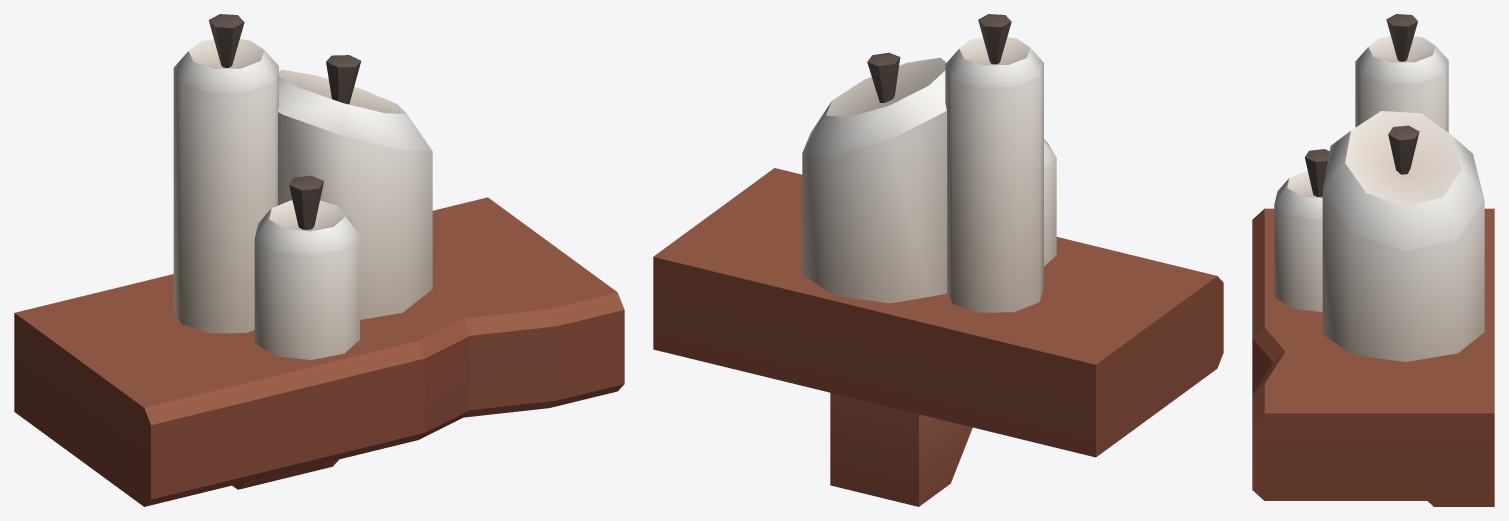
Rendered from shelf_small_candles.gltf.
The picture shows the model from 3 angles, left to right: view 1: azimuth 30°, elevation 25°; view 2: azimuth 150°, elevation 25°; view 3: azimuth 270°, elevation 25°; orthographic projection. The views are drawn at different scales.
Parts seen in each view (by area): view 1: shelf_small_candles; view 2: shelf_small_candles; view 3: shelf_small_candles.
Boxes of the visible parts, box(x1,y1,x2,y2) form: shelf_small_candles: box(14, 14, 624, 506); shelf_small_candles: box(653, 14, 1223, 506); shelf_small_candles: box(1252, 14, 1494, 506).
Size of the model in its own units: 1 by 0.9942 by 0.5.
Materials: 1 (1 with a texture image).
